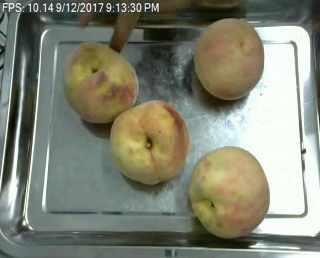Peach: (188, 145, 270, 238), (109, 100, 190, 185), (63, 42, 138, 124), (194, 19, 265, 100)
